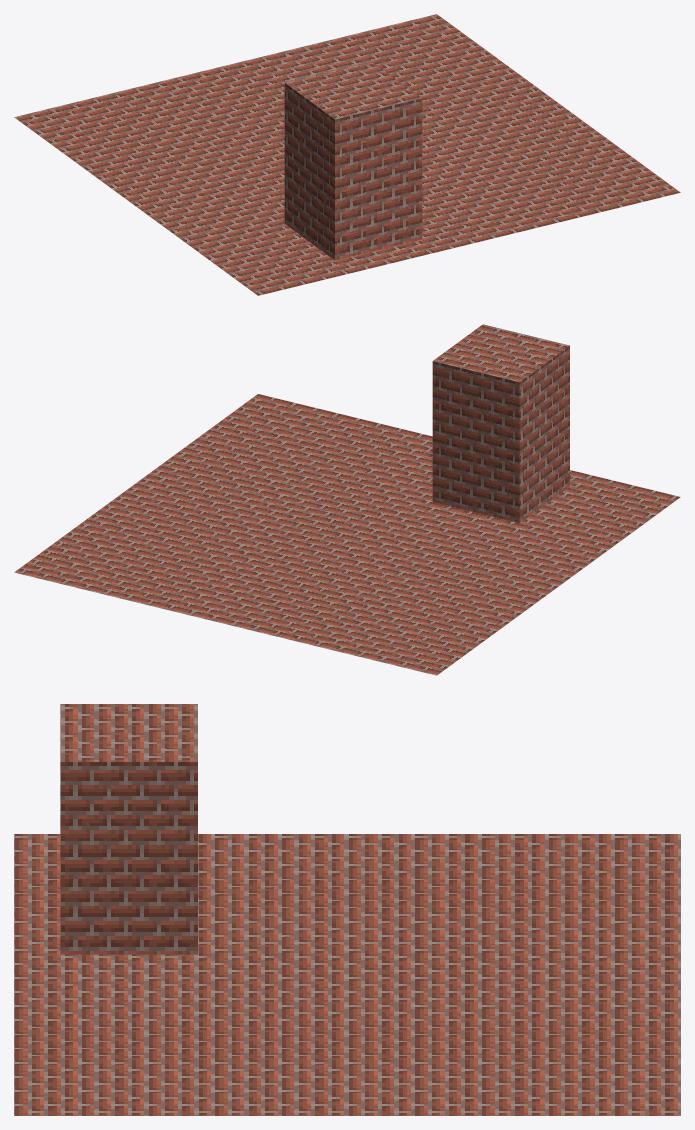
3 views of the same model, one above another, from view 1: azimuth 30°, elevation 25°; view 2: azimuth 150°, elevation 25°; view 3: azimuth 270°, elevation 25° (orthographic). The views are drawn at different scales.
Visible parts, largest first — view 1: Plane; view 2: Plane; view 3: Plane.
Boxes of the visible parts, x1,y1,x2,y2 form: Plane: (14, 14, 680, 295); Plane: (14, 324, 680, 675); Plane: (14, 704, 680, 1115).
Size of the model in its own units: 116 by 36.98 by 116.
1 material, 1 textured.
